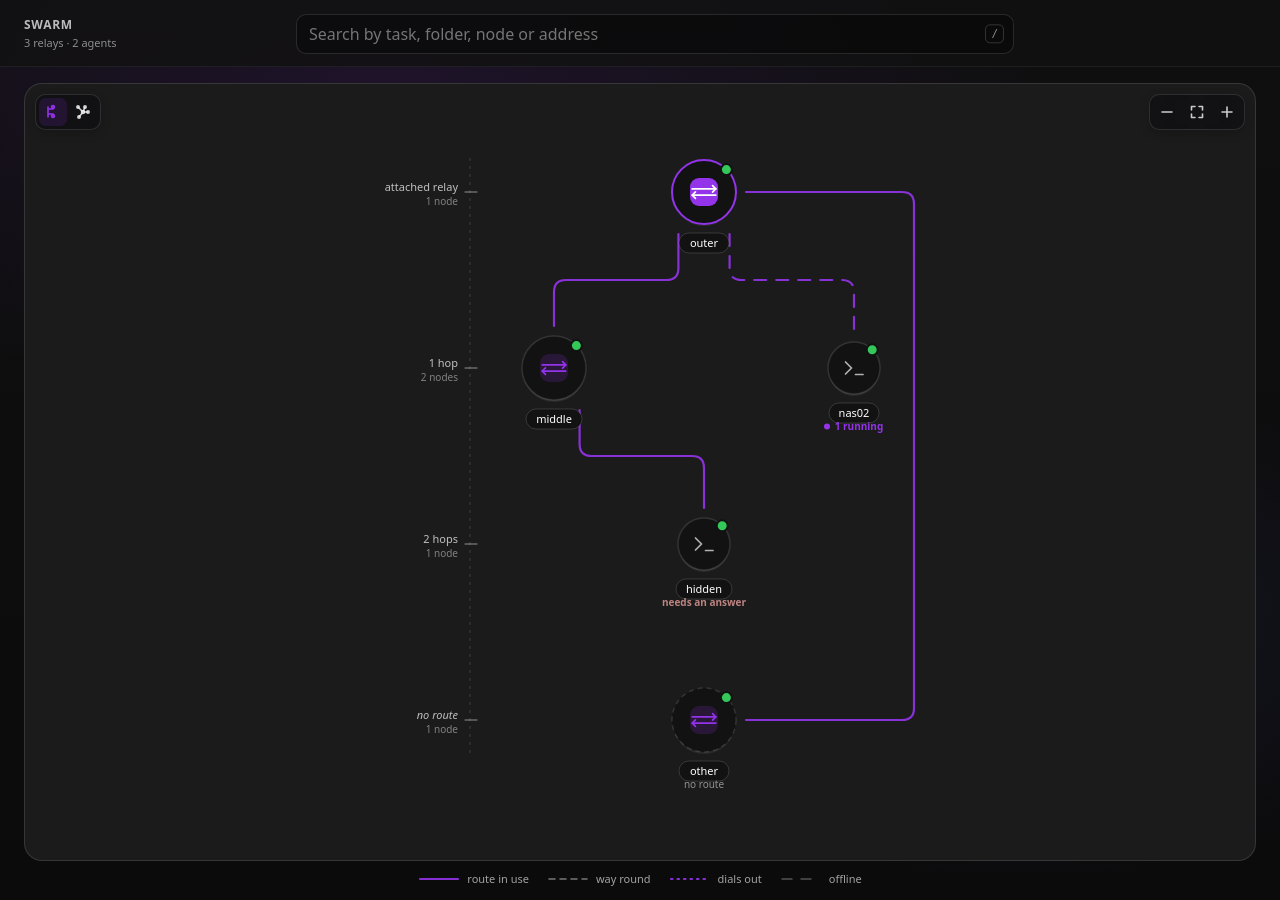
SwarmView › does not restart the pulse when nothing about the work changed
Expected: the element with class "swarm-node" is shown, top-left (835, 405), bottom-right (883, 433)
In the search field with test id "swarm-search": (655, 34) top-left (296, 14), bottom-right (1014, 54), type "parser"
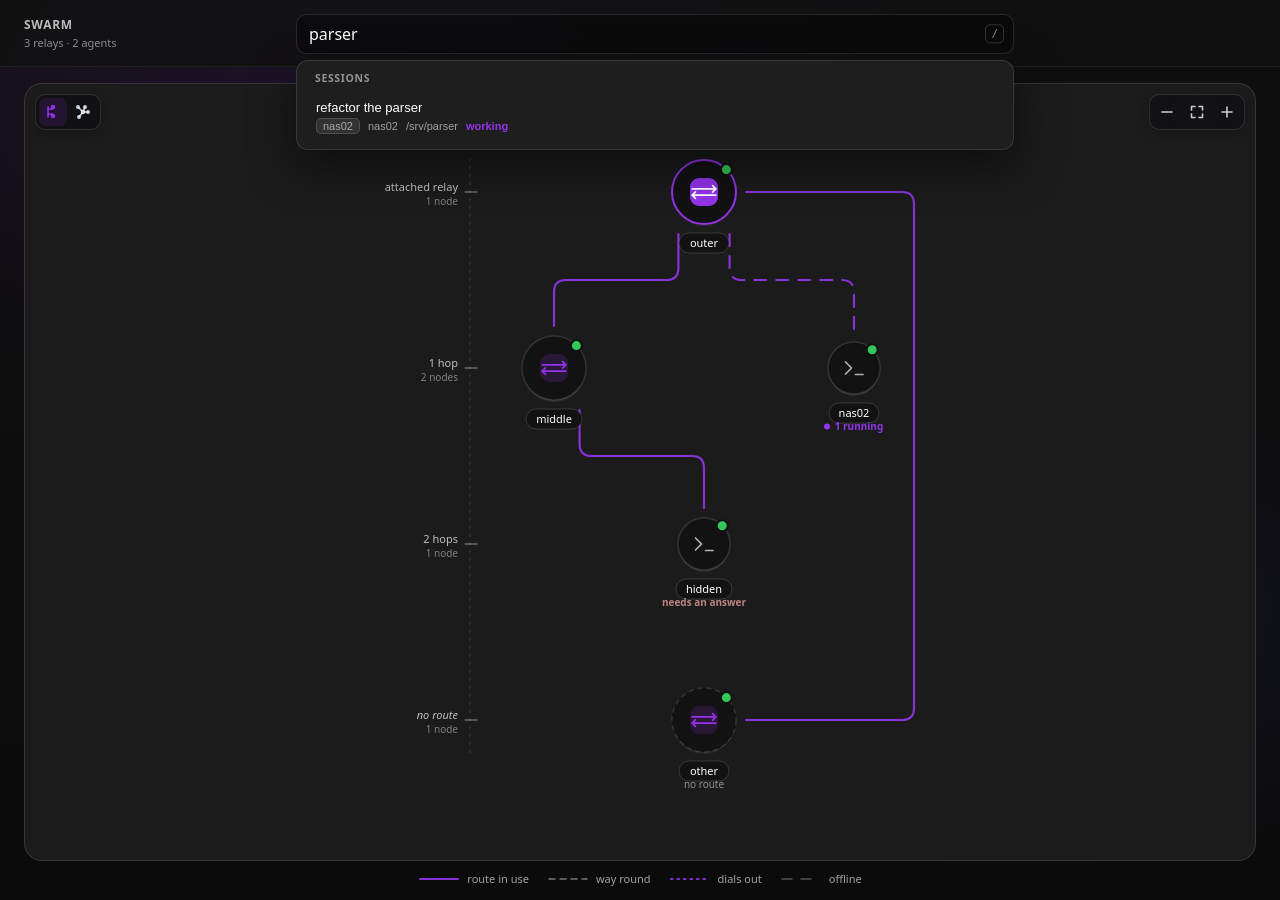
Expected: the element with class "swarm-node" is shown, top-left (835, 405), bottom-right (883, 433)
Expected: the list with test id "swarm-results" is shown, top-left (296, 60), bottom-right (1014, 150)
